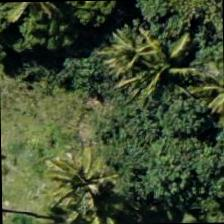Kelapa_Sawit: (83, 10, 175, 102), (30, 150, 122, 223)
